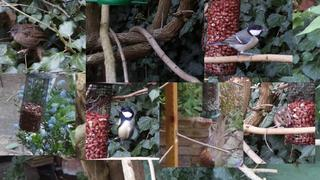dunnock: (6, 24, 62, 55)
great tit: (208, 24, 269, 61), (104, 106, 135, 145)
mouse: (264, 106, 291, 153)
